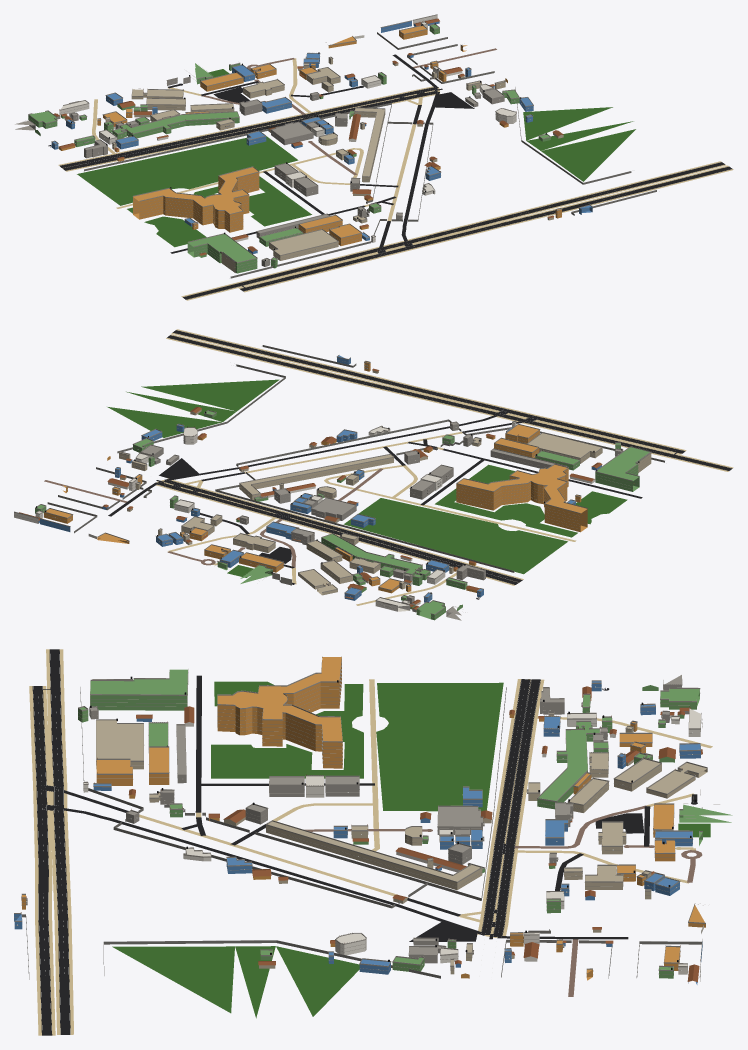
The model's file is zone_t6_0.glb.
3 renders of one model, top to bottom at view 1: azimuth 30°, elevation 25°; view 2: azimuth 150°, elevation 25°; view 3: azimuth 270°, elevation 25°, orthographic. The views are drawn at different scales.
Parts seen in each view (by area): view 1: zone_herbe_t6_0, bld_peinture_ocre_t6_0-col, parapet_t6_0, route_primary_bitume_t6_0, bld_peinture_ecaillee_t6_0-col, bld_peinture_vert_t6_0-col, accotement_t6_0, bld_beton_t6_0-col, bld_peinture_bleu_t6_0-col, mur_wall_t6_0-col, route_service_bitume_t6_0, bld_peinture_blanc_t6_0-col (+5 smaller); view 2: zone_herbe_t6_0, bld_peinture_ocre_t6_0-col, parapet_t6_0, route_primary_bitume_t6_0, bld_peinture_ecaillee_t6_0-col, accotement_t6_0, bld_peinture_vert_t6_0-col, bld_beton_t6_0-col, mur_wall_t6_0-col, bld_peinture_bleu_t6_0-col, route_service_bitume_t6_0, route_service_terre_t6_0 (+5 smaller); view 3: zone_herbe_t6_0, route_primary_bitume_t6_0, bld_peinture_ocre_t6_0-col, bld_peinture_ecaillee_t6_0-col, parapet_t6_0, bld_peinture_vert_t6_0-col, accotement_t6_0, bld_beton_t6_0-col, bld_peinture_bleu_t6_0-col, mur_wall_t6_0-col, route_service_bitume_t6_0, route_service_terre_t6_0 (+6 smaller).
Part boxes in pixels (left/top/right/bottom): zone_herbe_t6_0: left=77, top=69, right=635, bottom=247; bld_peinture_ocre_t6_0-col: left=58, top=26, right=561, bottom=245; parapet_t6_0: left=23, top=14, right=592, bottom=263; route_primary_bitume_t6_0: left=60, top=87, right=732, bottom=299; bld_peinture_ecaillee_t6_0-col: left=105, top=57, right=563, bottom=272; bld_peinture_vert_t6_0-col: left=28, top=24, right=550, bottom=273; accotement_t6_0: left=58, top=86, right=733, bottom=300; bld_beton_t6_0-col: left=15, top=77, right=504, bottom=266; bld_peinture_bleu_t6_0-col: left=51, top=21, right=592, bottom=253; mur_wall_t6_0-col: left=84, top=32, right=656, bottom=278; route_service_bitume_t6_0: left=48, top=54, right=439, bottom=253; bld_peinture_blanc_t6_0-col: left=59, top=15, right=516, bottom=242; zone_herbe_t6_0: left=107, top=379, right=627, bottom=577; bld_peinture_ocre_t6_0-col: left=44, top=361, right=587, bottom=593; parapet_t6_0: left=14, top=355, right=651, bottom=614; route_primary_bitume_t6_0: left=156, top=330, right=732, bottom=584; bld_peinture_ecaillee_t6_0-col: left=119, top=370, right=651, bottom=595; accotement_t6_0: left=156, top=329, right=733, bottom=585; bld_peinture_vert_t6_0-col: left=35, top=411, right=649, bottom=620; bld_beton_t6_0-col: left=142, top=422, right=622, bottom=620; mur_wall_t6_0-col: left=47, top=345, right=664, bottom=572; bld_peinture_bleu_t6_0-col: left=38, top=355, right=601, bottom=602; route_service_bitume_t6_0: left=108, top=415, right=642, bottom=599; route_service_terre_t6_0: left=156, top=432, right=576, bottom=605; zone_herbe_t6_0: left=112, top=681, right=710, bottom=1018; route_primary_bitume_t6_0: left=32, top=649, right=540, bottom=1035; bld_peinture_ocre_t6_0-col: left=22, top=657, right=705, bottom=980; bld_peinture_ecaillee_t6_0-col: left=96, top=713, right=707, bottom=974; parapet_t6_0: left=14, top=656, right=719, bottom=977; bld_peinture_vert_t6_0-col: left=78, top=669, right=732, bottom=978; accotement_t6_0: left=29, top=649, right=544, bottom=1035; bld_beton_t6_0-col: left=89, top=675, right=689, bottom=963; bld_peinture_bleu_t6_0-col: left=14, top=681, right=702, bottom=984; mur_wall_t6_0-col: left=22, top=687, right=701, bottom=979; route_service_bitume_t6_0: left=64, top=675, right=697, bottom=939; route_service_terre_t6_0: left=139, top=679, right=712, bottom=937.
Size of the model in its own units: 666 by 23 by 525.
